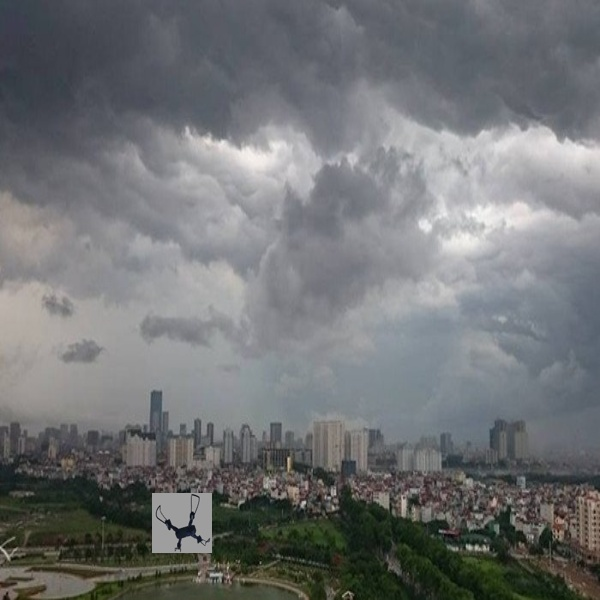drone: (154, 491, 213, 552)
